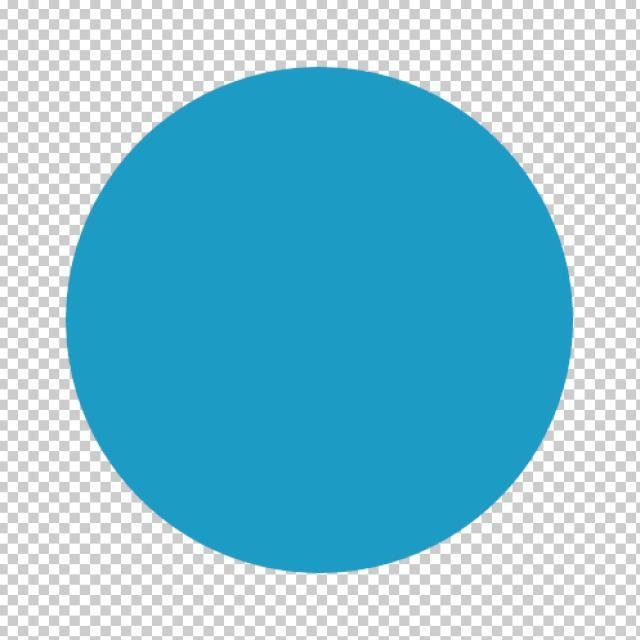Circle: (66, 69, 572, 572)
